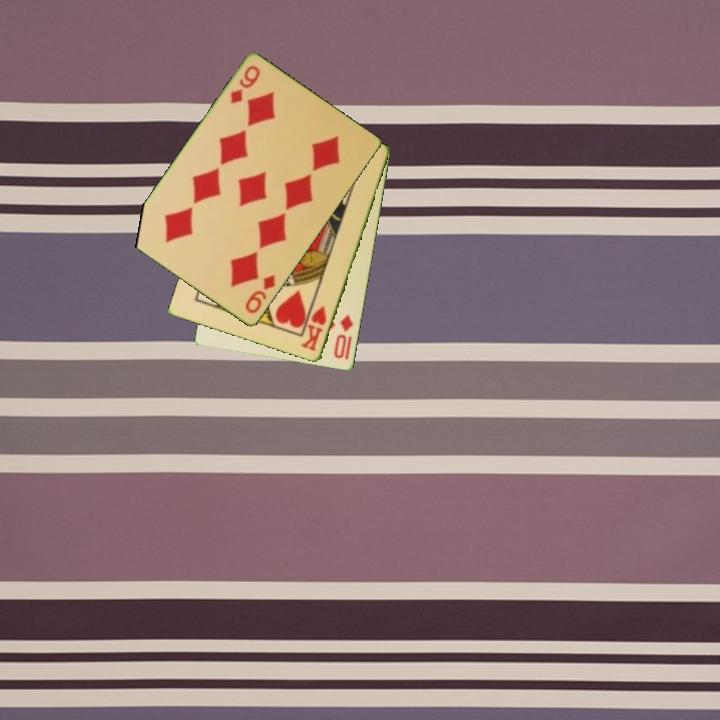10d: (330, 312, 356, 362)
9d: (241, 271, 278, 317), (227, 62, 263, 107)
Kh: (298, 302, 329, 354)
